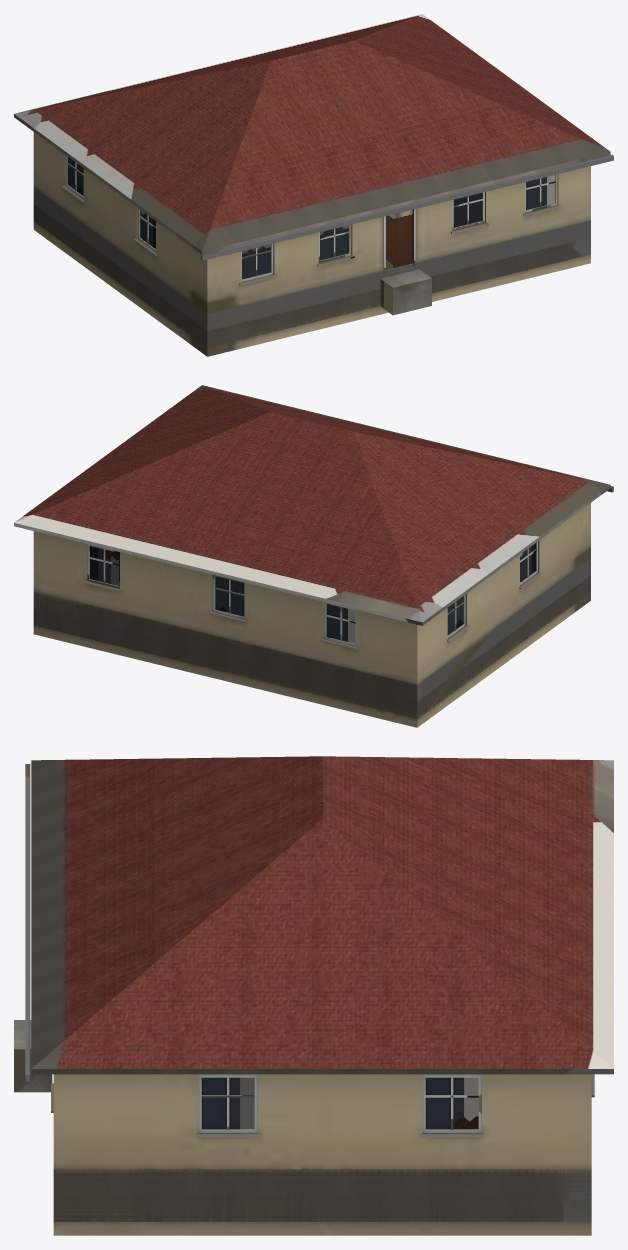
The model's file is vil3b.glb.
3 renders of one model, top to bottom at view 1: azimuth 30°, elevation 25°; view 2: azimuth 150°, elevation 25°; view 3: azimuth 270°, elevation 25°, orthographic. The views are drawn at different scales.
Visible parts, largest first — view 1: building; view 2: building; view 3: building.
Part boxes in pixels (<box>): building: <box>14,14,613,356</box>; building: <box>14,385,613,727</box>; building: <box>14,756,613,1235</box>.
Size of the model in its own units: 14.77 by 6.72 by 12.05.
2 materials, 2 textured.
